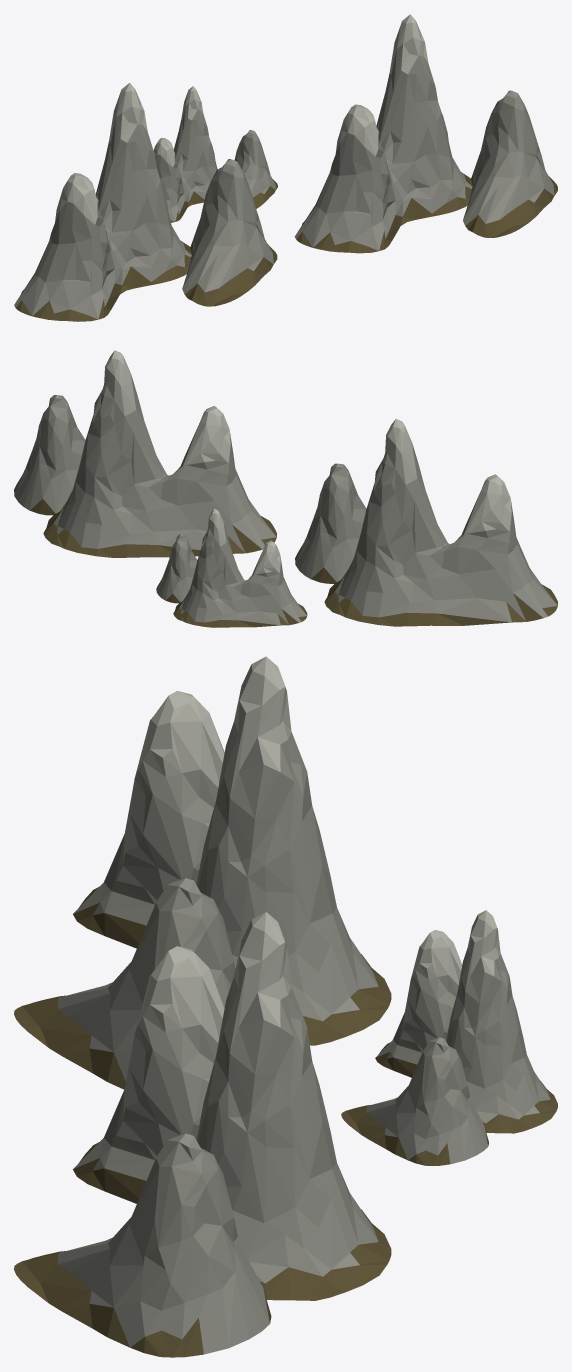
File: moutains.glb
3 views of the same model, one above another, from view 1: azimuth 30°, elevation 25°; view 2: azimuth 150°, elevation 25°; view 3: azimuth 270°, elevation 25° (orthographic). The views are drawn at different scales.
Parts seen in each view (by area): view 1: Mountain_Group_2.002, Mountain_Group_2.001, Mountain_Group_2; view 2: Mountain_Group_2.002, Mountain_Group_2.001, Mountain_Group_2; view 3: Mountain_Group_2.001, Mountain_Group_2.002, Mountain_Group_2.
Boxes of the visible parts, x1,y1,x2,y2 form: Mountain_Group_2.002: (14,83,277,321); Mountain_Group_2.001: (294,14,557,253); Mountain_Group_2: (153,86,277,222); Mountain_Group_2.002: (295,419,557,626); Mountain_Group_2.001: (14,350,276,557); Mountain_Group_2: (156,508,307,627); Mountain_Group_2.001: (14,912,391,1357); Mountain_Group_2.002: (14,656,391,1089); Mountain_Group_2: (341,910,557,1165).
Size of the model in its own units: 13.1 by 4.26 by 6.18.
